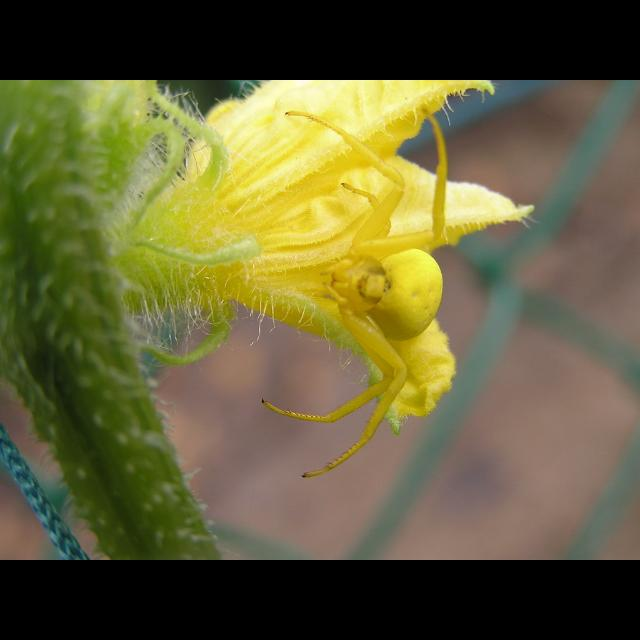Flower: (109, 102, 463, 414)
